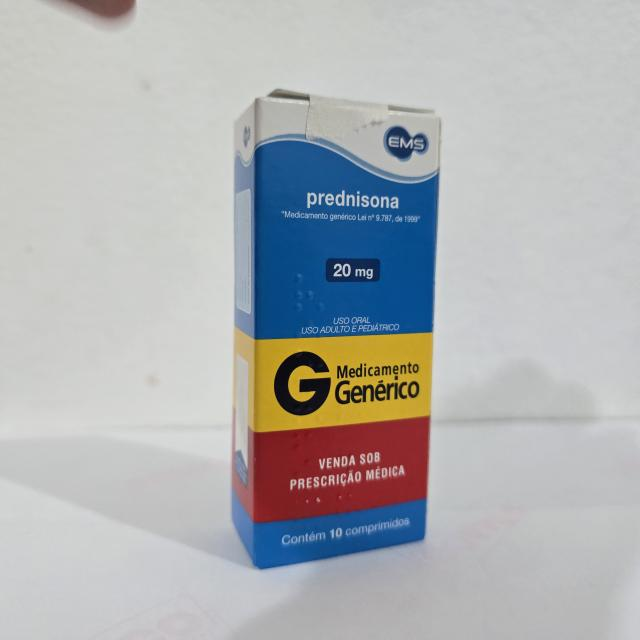prednisona: (224, 84, 446, 574)
